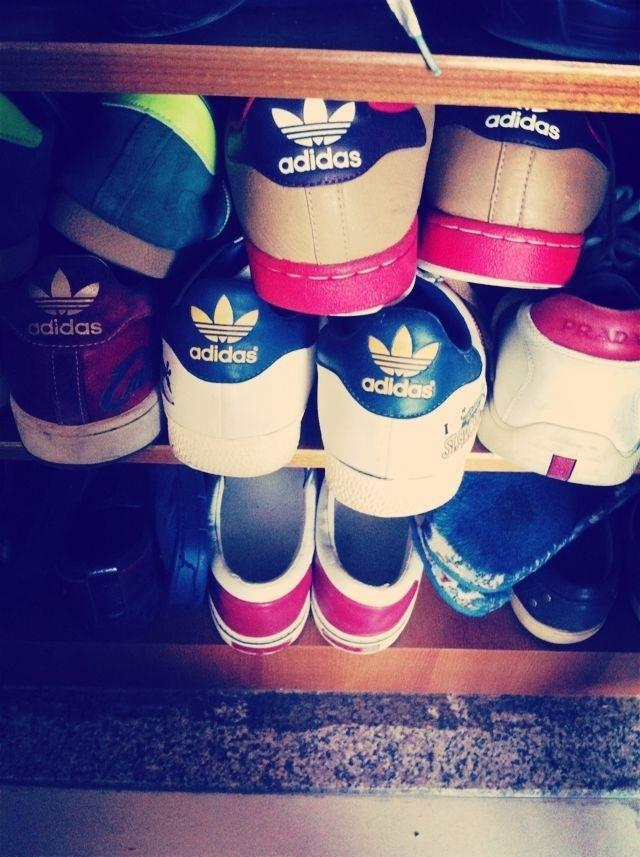Adidas_Originals: (265, 85, 377, 177)
